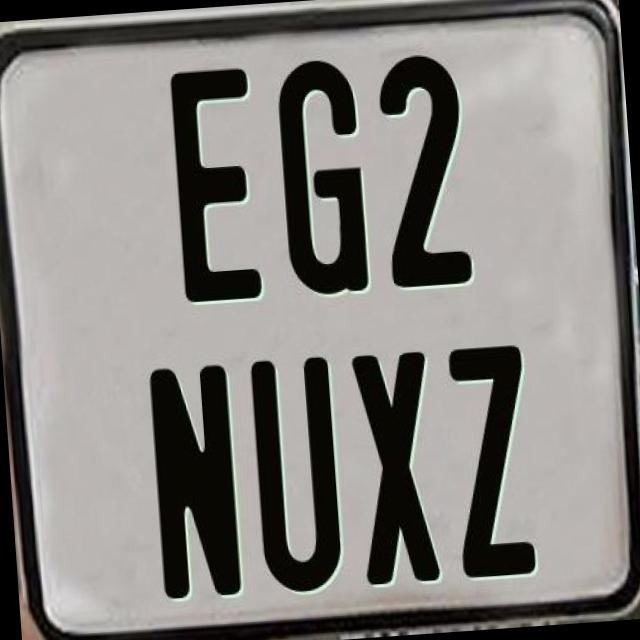2: (372, 49, 472, 290)
E: (169, 67, 268, 307)
G: (274, 54, 371, 300)
N: (144, 358, 242, 598)
U: (249, 353, 349, 598)
X: (348, 351, 440, 585)
Z: (448, 339, 542, 575)
